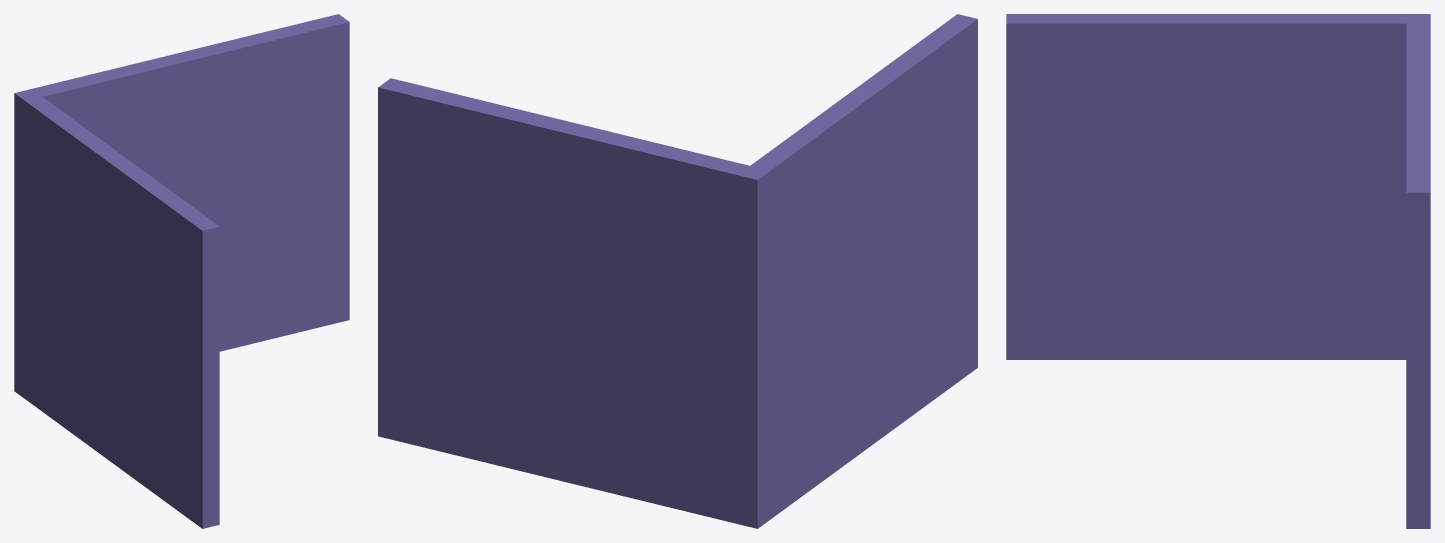
The model's file is CornerWall.fbx.
3 renders of one model, left to right at view 1: azimuth 30°, elevation 25°; view 2: azimuth 150°, elevation 25°; view 3: azimuth 270°, elevation 25°, orthographic. The views are drawn at different scales.
Visible parts, largest first — view 1: CornerWall; view 2: CornerWall; view 3: CornerWall.
Boxes of the visible parts, box(x1,y1,x2,y2) form: CornerWall: box(14, 14, 349, 528); CornerWall: box(378, 14, 977, 528); CornerWall: box(1006, 14, 1430, 528).
Size of the model in its own units: 208 by 183 by 209.
